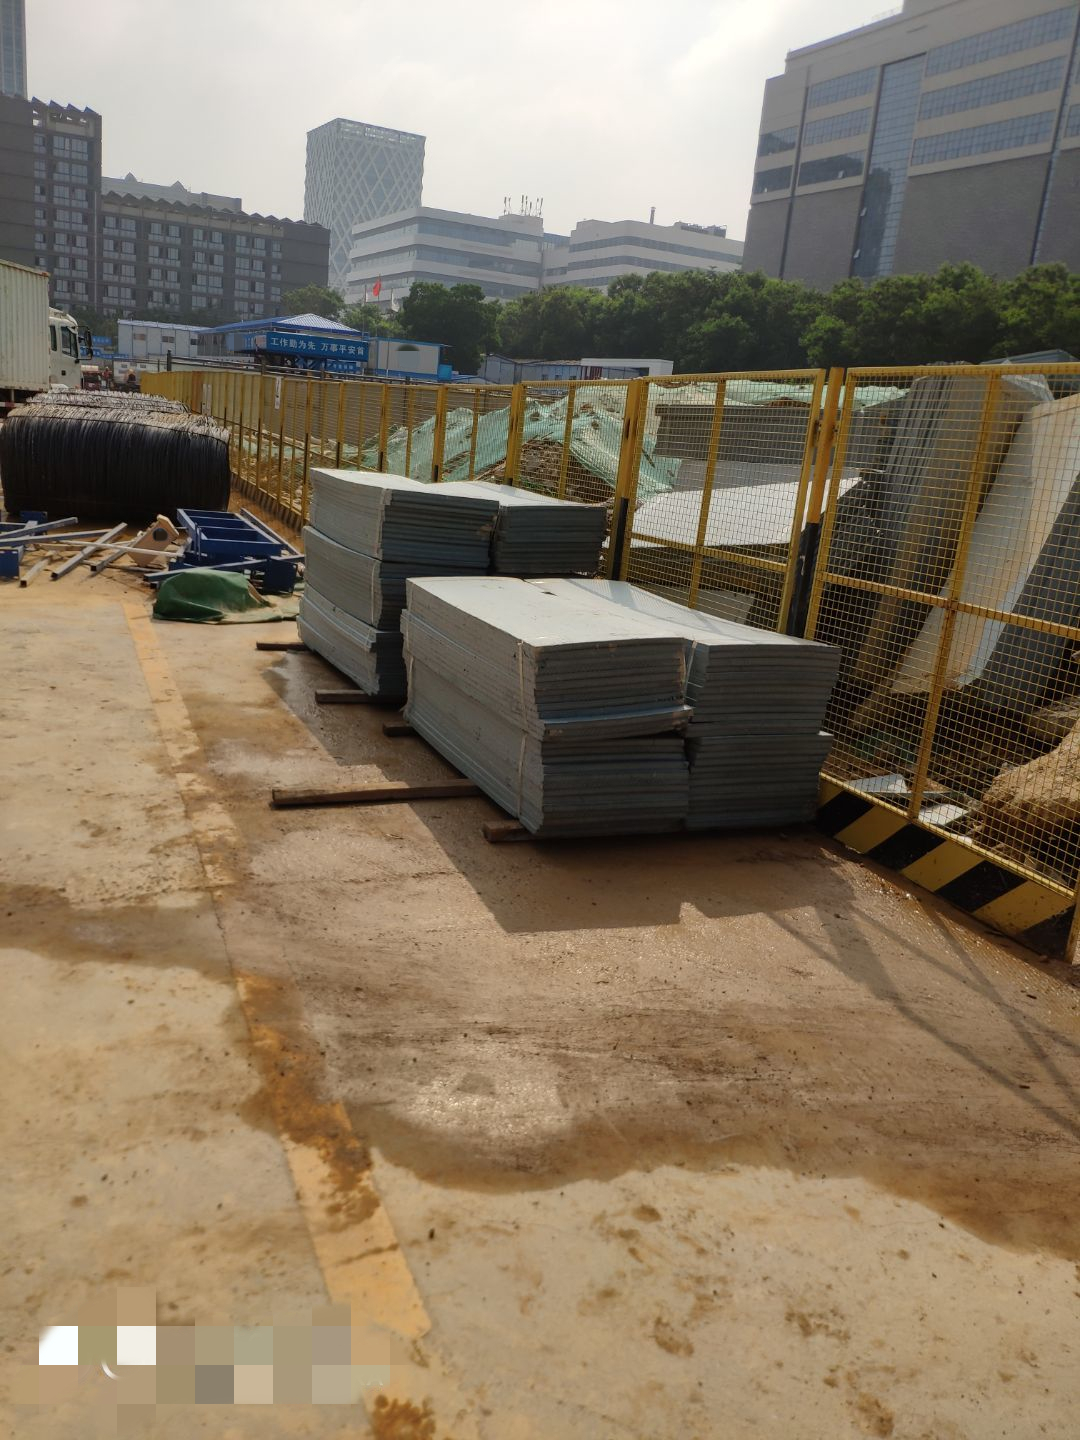fence: (216, 370, 1080, 880)
slogan: (265, 334, 369, 358)
